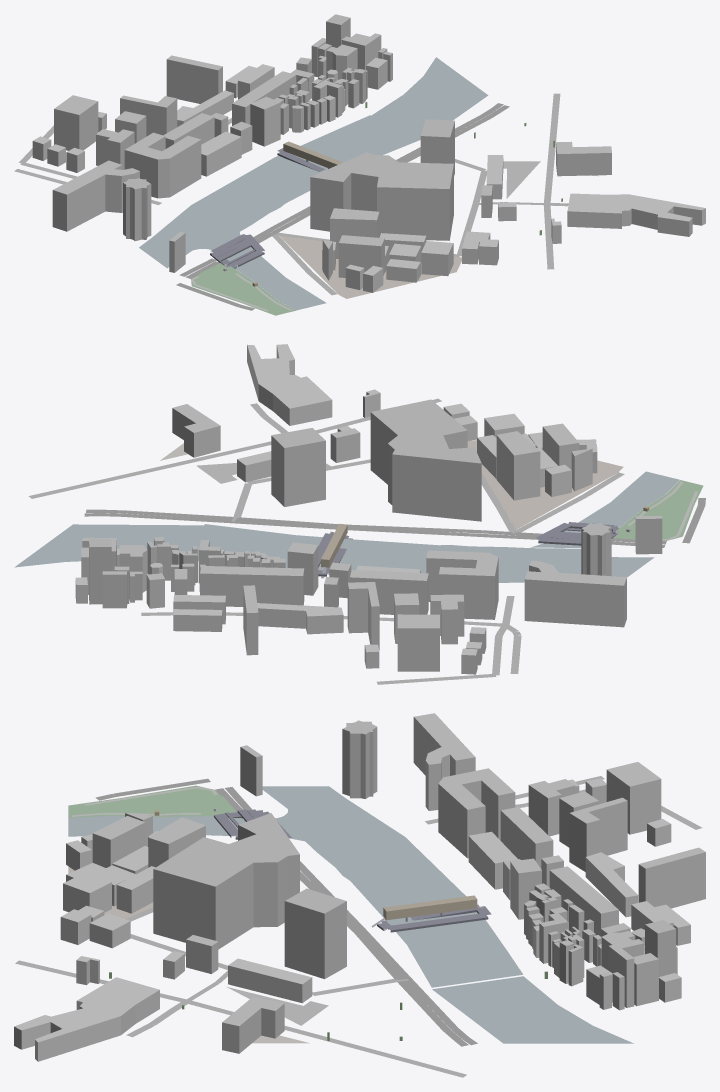
3 renders of one model, top to bottom at view 1: azimuth 30°, elevation 25°; view 2: azimuth 150°, elevation 25°; view 3: azimuth 270°, elevation 25°, orthographic. The views are drawn at different scales.
Size of the model in its own units: 618 by 62.41 by 572.
